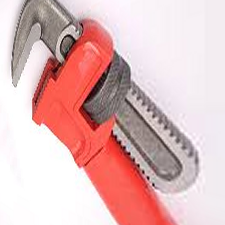Wrench: (12, 1, 204, 225)
